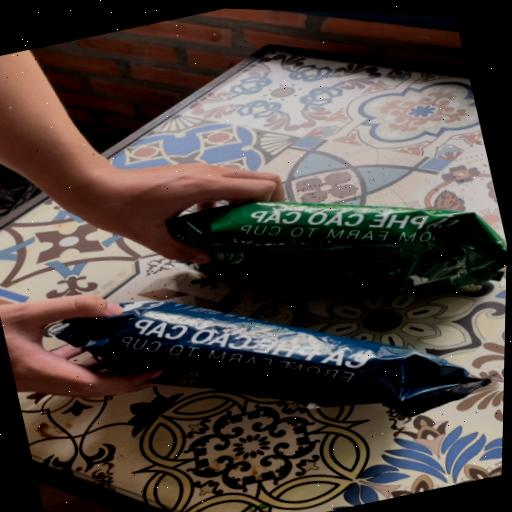cafe_hat: (52, 300, 489, 417)
cafe_xay: (168, 202, 507, 297)
